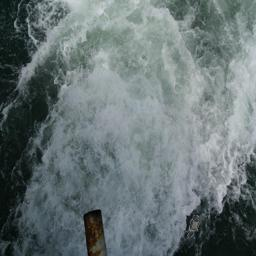Swallow: (187, 215, 199, 237)
